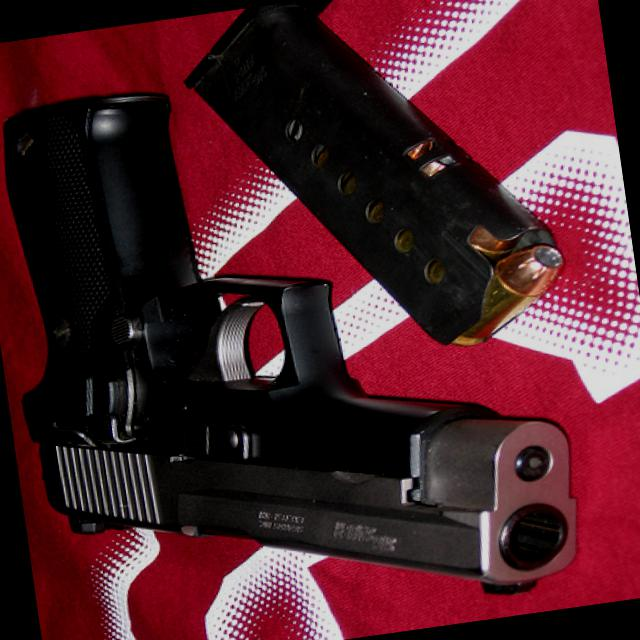handgun: (0, 40, 586, 639)
